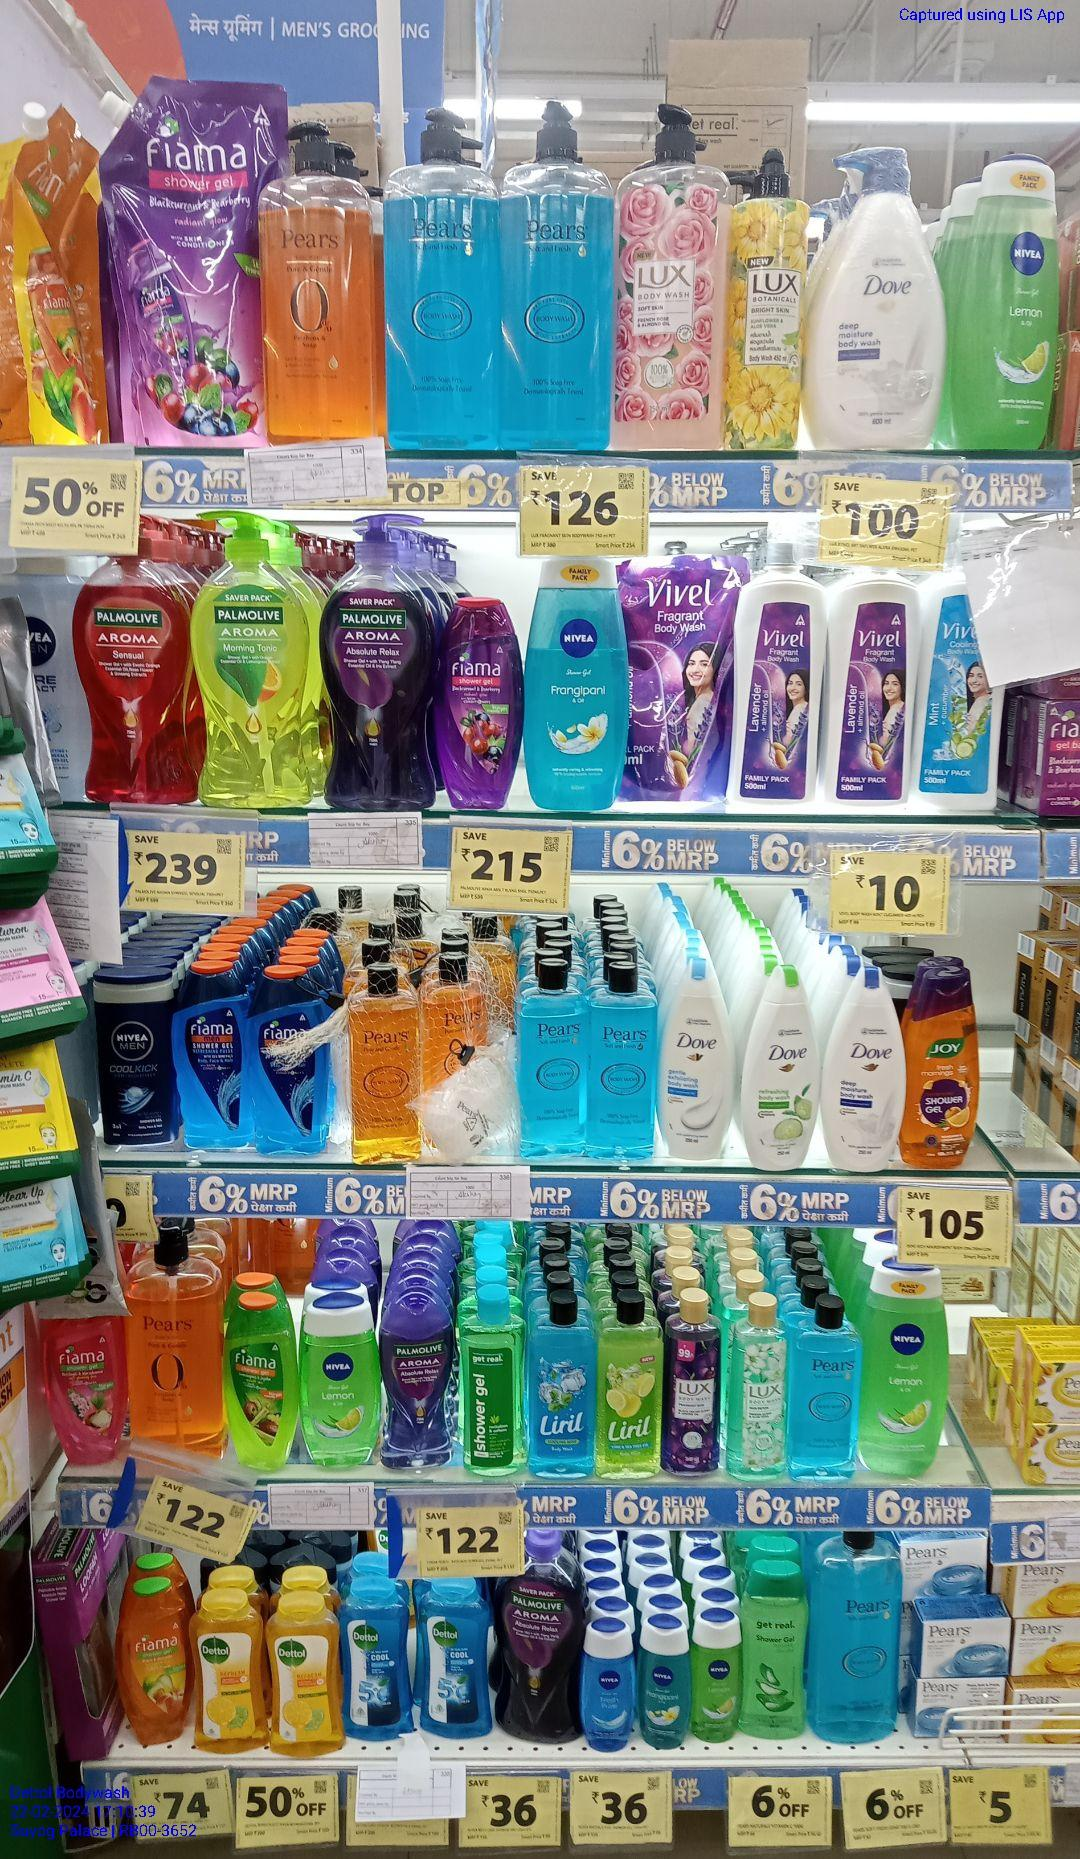Dettol_Bodywash_Cool: (422, 1580, 494, 1741), (345, 1585, 418, 1737)
Dettol_Bodywash_Refresh: (188, 1597, 266, 1755), (273, 1595, 346, 1759)
Dove_Deep_Moisture_Body_Wash_250ML: (827, 968, 909, 1172), (665, 967, 734, 1158)
Dove_Refreshing_Body_Wash_250ML: (746, 969, 819, 1176)
Fiama_Shower_Gel_Lemongrass_and_Jojoba_250ML: (224, 1283, 305, 1476)
Fiama_Shower_Gel_Peach_and_Avocado_250ML: (121, 1583, 183, 1750)
Joy_Shower_Gel_Mandarin_and_Lemongrass_250ML: (913, 969, 982, 1167)
Liril_Cooling_Mint_Body_Wash_250ML: (531, 1295, 602, 1477)
Liril_Lime_and_Tea_Tree_Oil_Body_Wash_250ML: (602, 1292, 665, 1481)
Lux_Black_Orchid_Scent_and_Juniper_Oil_Body_Wash_245ML: (667, 1295, 720, 1473)
Lux_Body_Wash_Skin_Detox_Freesia_Scent_and_Alove_Vera_245ML: (730, 1297, 789, 1482)
Nivea_Shower_Gel_Frangipani_and_Oil_250ML: (527, 550, 629, 815)
Nivea_Shower_Gel_Lemon_and_Oil_250ML: (960, 158, 1074, 456), (860, 1260, 948, 1476), (303, 1297, 379, 1468)
Palmolive_Aroma_Relax_250ML: (383, 1300, 453, 1471)
Pears_Pure_Glycerin_and_Mint_Extracts_Body_Wash_250ML: (510, 958, 582, 1151), (590, 964, 656, 1157)
